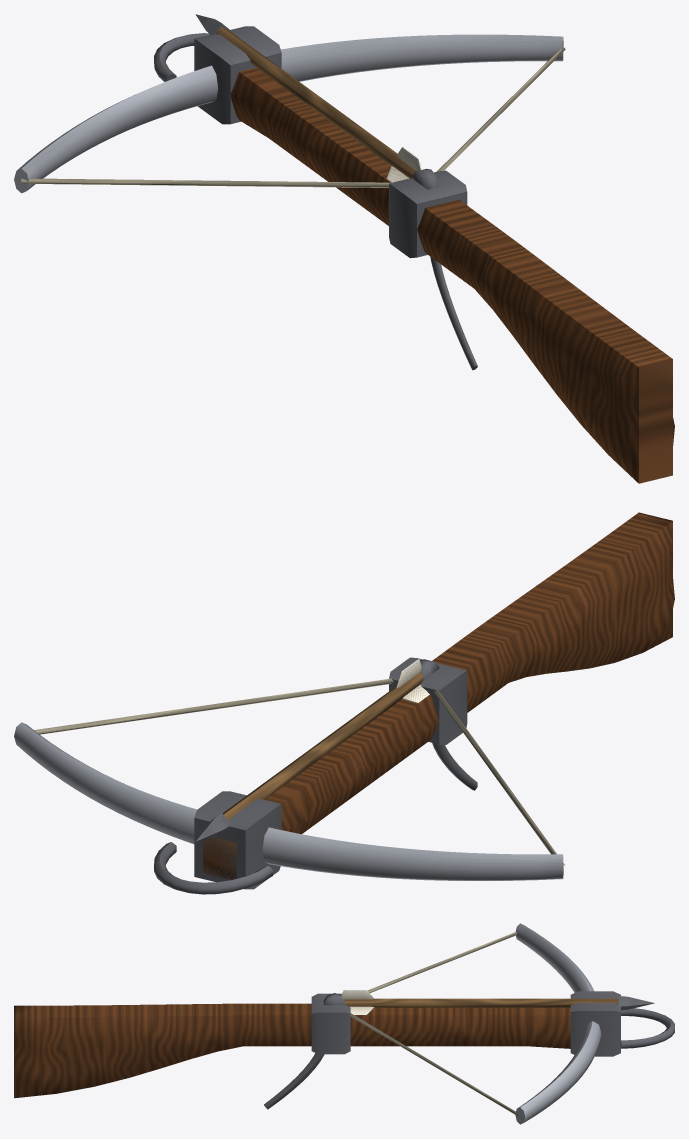
Rendered from Crossbow.glb.
3 views of the same model, one above another, from view 1: azimuth 30°, elevation 25°; view 2: azimuth 150°, elevation 25°; view 3: azimuth 270°, elevation 25° (orthographic). The views are drawn at different scales.
Visible parts, largest first — view 1: Crossbow; view 2: Crossbow; view 3: Crossbow.
Part boxes in pixels (<box>): Crossbow: <box>14,14,674,483</box>; Crossbow: <box>14,512,674,894</box>; Crossbow: <box>14,923,674,1124</box>.
Size of the model in its own units: 1.93 by 0.5735 by 2.89.
1 material, 1 textured.
